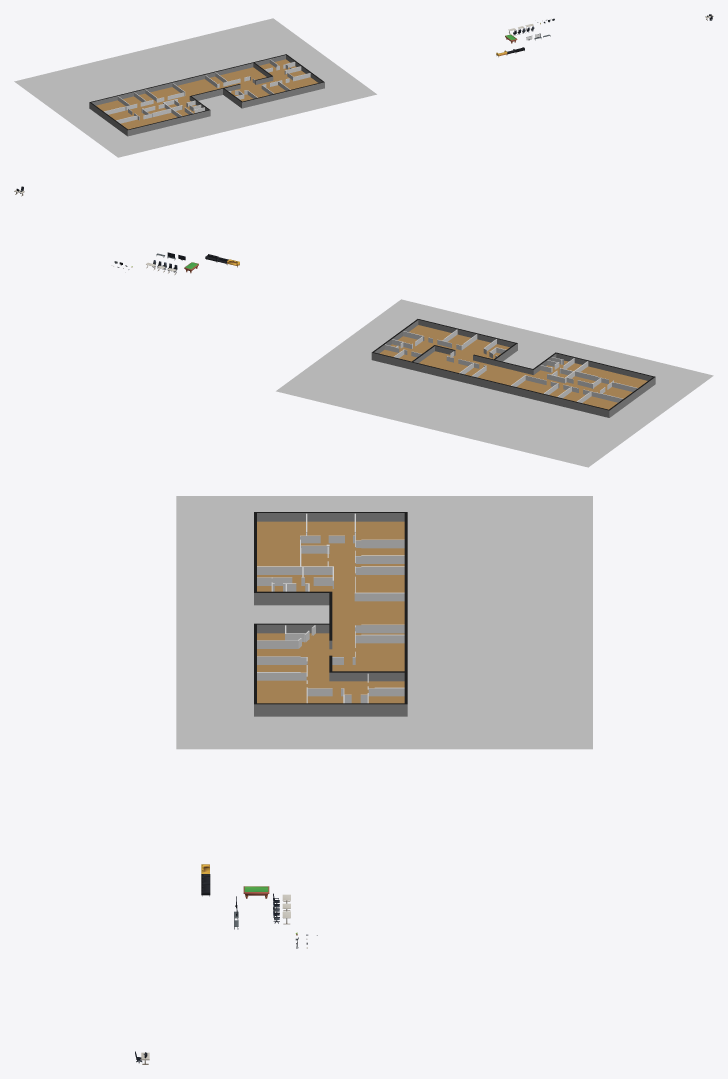
File: Bergen3D.FBX
The picture shows the model from 3 angles, top to bottom: view 1: azimuth 30°, elevation 25°; view 2: azimuth 150°, elevation 25°; view 3: azimuth 270°, elevation 25°; orthographic projection. The views are drawn at different scales.
Parts seen in each view (by area): view 1: Print, Base, Walls, Windows; view 2: Print, Base, Walls, Windows; view 3: Print, Base, Walls, Windows.
Part boxes in pixels (left/top/right/bottom): Print: left=14, top=18, right=376, bottom=157; Base: left=89, top=54, right=324, bottom=136; Walls: left=104, top=59, right=310, bottom=123; Windows: left=122, top=64, right=293, bottom=120; Print: left=276, top=299, right=713, bottom=467; Base: left=371, top=319, right=655, bottom=417; Walls: left=384, top=329, right=637, bottom=402; Windows: left=396, top=336, right=615, bottom=398; Print: left=176, top=496, right=592, bottom=749; Base: left=254, top=512, right=407, bottom=716; Walls: left=257, top=513, right=404, bottom=703; Windows: left=300, top=532, right=374, bottom=696.
Bounding box in the file's own units: 5273 × 67.59 × 1782.
